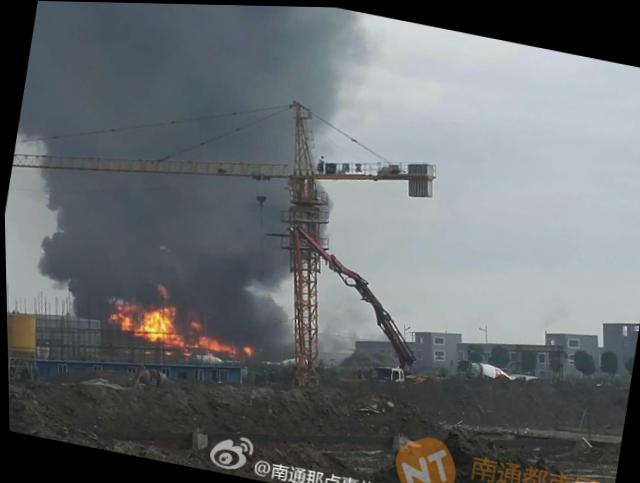fire: (138, 301, 173, 340), (107, 298, 135, 328), (195, 331, 232, 351), (187, 316, 203, 328), (240, 341, 252, 355), (169, 329, 182, 341)
